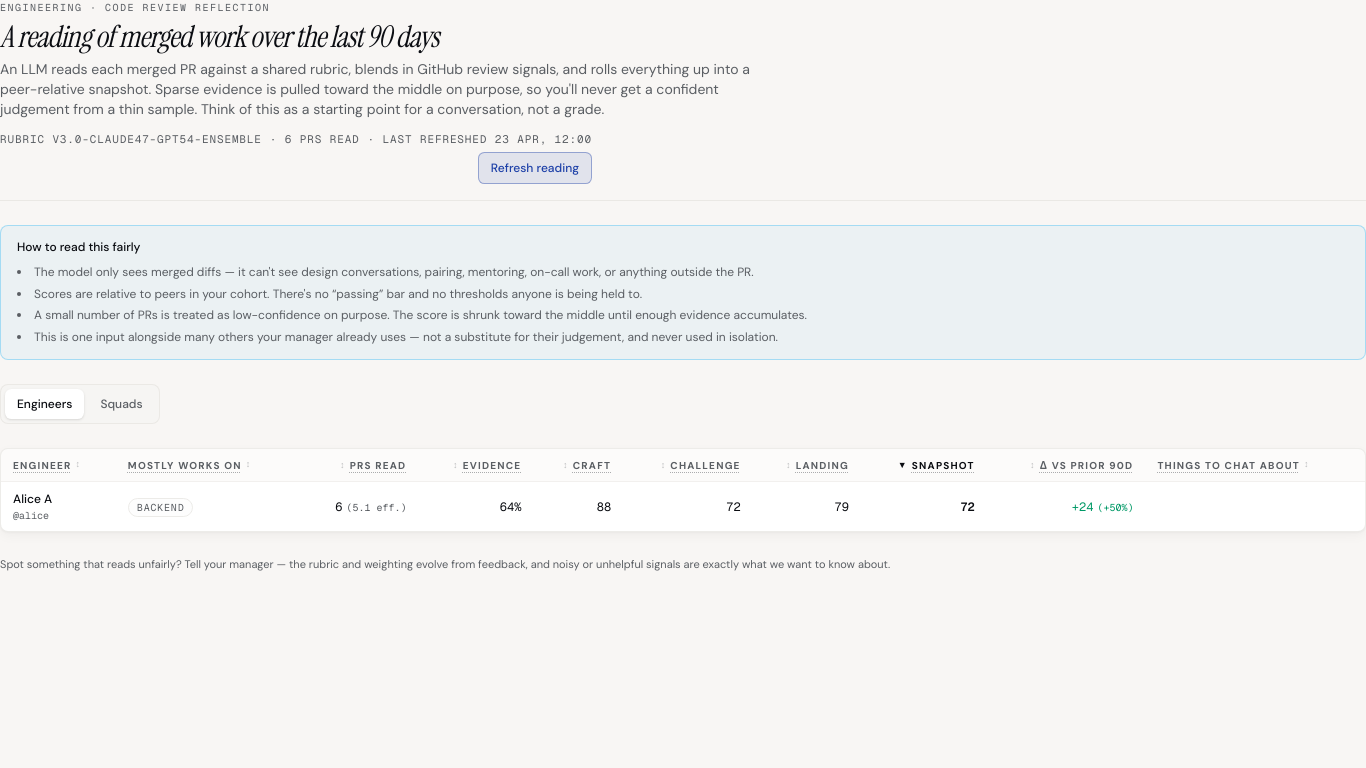
Scenario: <CodeReviewReport /> › opens the drawer with PR detail on row click
Check: the text "Add the feature foo" is not shown
Step 1. Click the text "Alice A" → (33, 499), box [13,491,52,507]
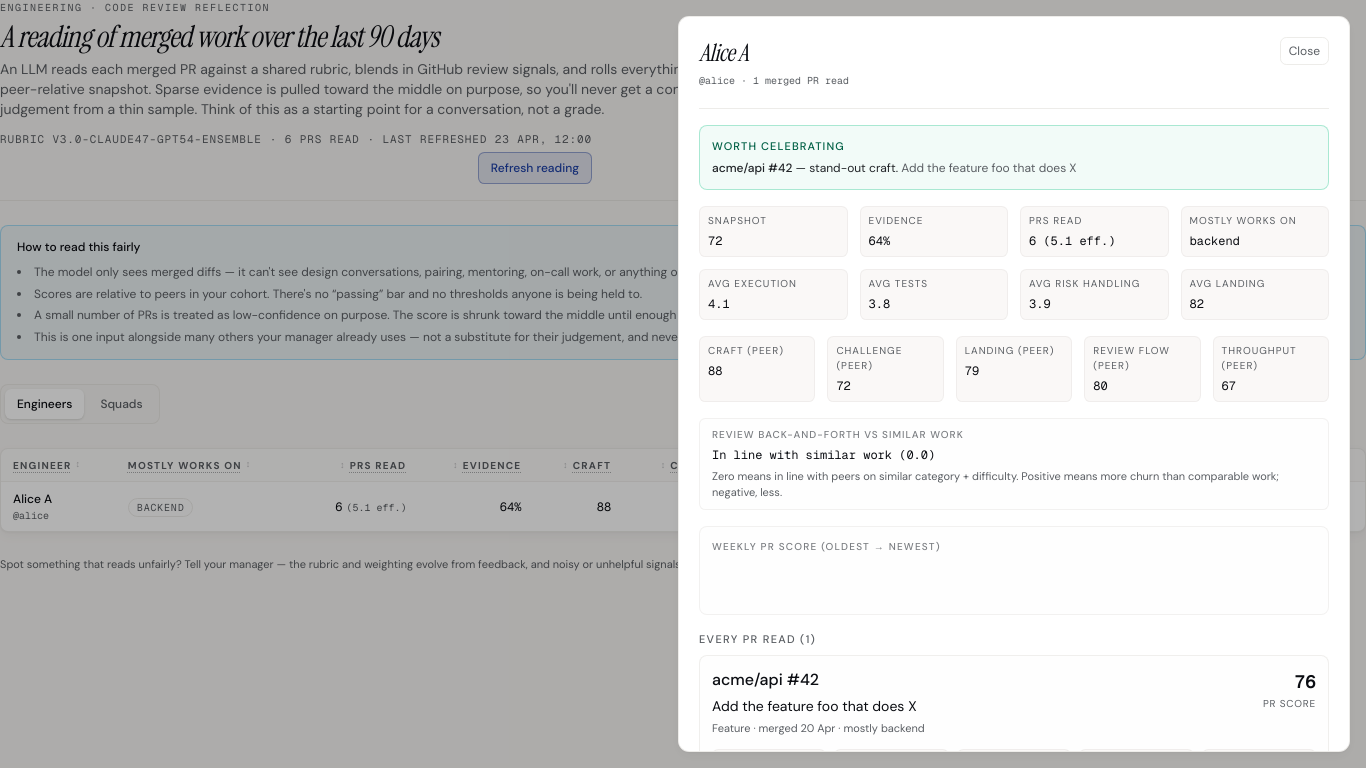
Check: the text "Add the feature foo that does X" next to "stand-out craft" is shown, box [901,160,1077,176]
Check: the text "Worth celebrating" is shown, box [712,139,845,153]
